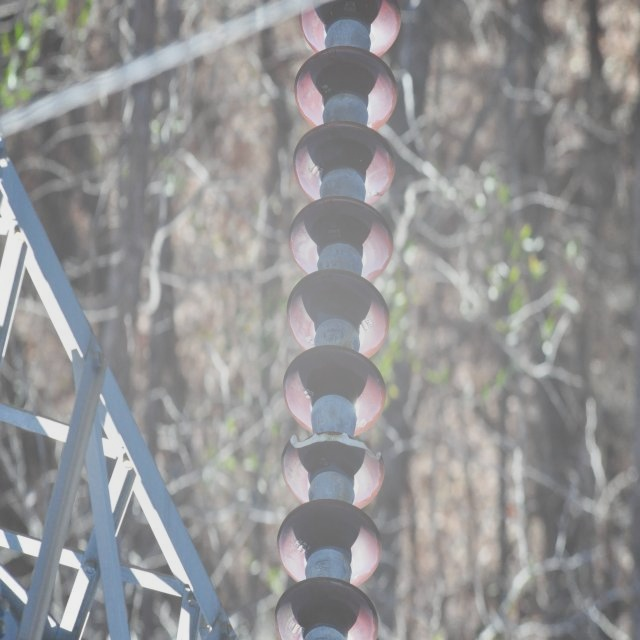broken: (288, 430, 384, 467)
insulator: (276, 0, 404, 639)
